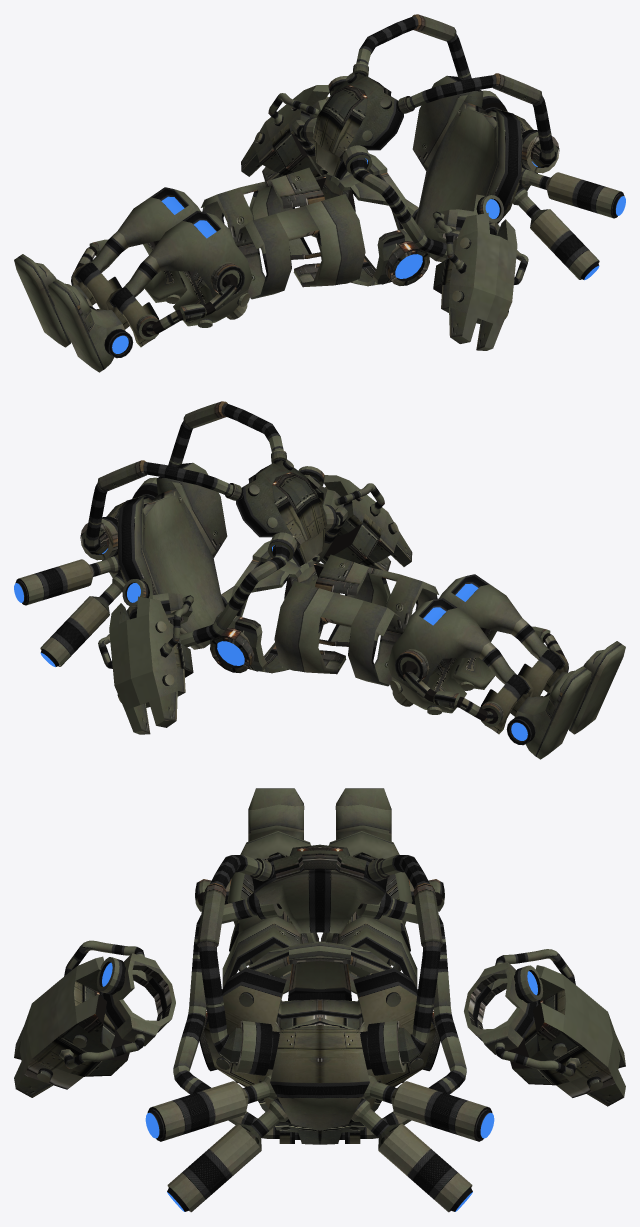
File: Mecha_suit.glb
3 views of the same model, one above another, from view 1: azimuth 30°, elevation 25°; view 2: azimuth 150°, elevation 25°; view 3: azimuth 270°, elevation 25° (orthographic). The views are drawn at different scales.
Parts seen in each view (by area): view 1: Doctor_wilson_Hips_mech; view 2: Doctor_wilson_Hips_mech; view 3: Doctor_wilson_Hips_mech.
Boxes of the visible parts, left/top/right/bottom form: Doctor_wilson_Hips_mech: left=14, top=14, right=625, bottom=372; Doctor_wilson_Hips_mech: left=14, top=401, right=625, bottom=759; Doctor_wilson_Hips_mech: left=14, top=788, right=625, bottom=1212.
Bounding box in the file's own units: 3.92 × 1.55 × 3.04.
Materials: 2 (1 with a texture image).
